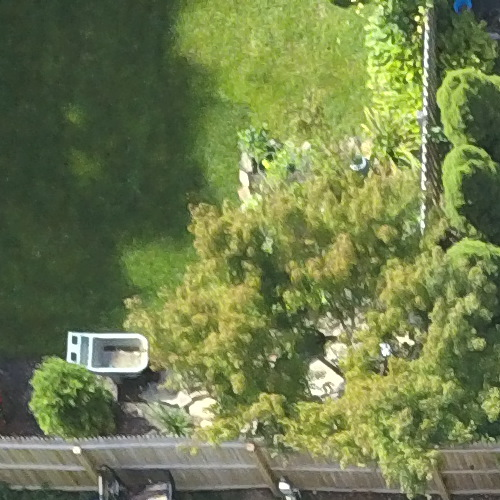container: (53, 315, 162, 394)
